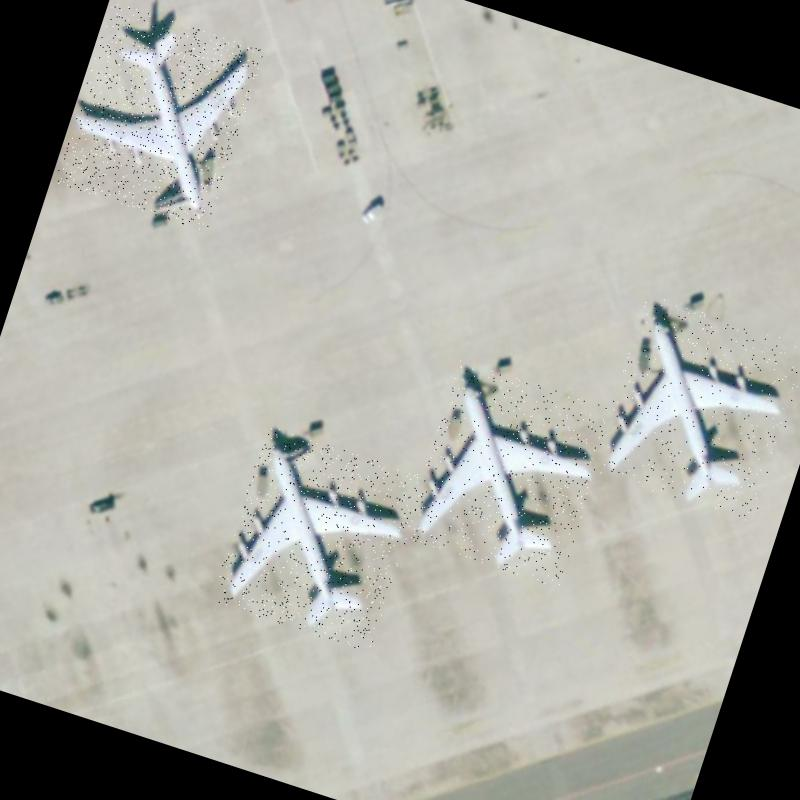A11: (210, 425, 427, 653), (402, 360, 616, 588), (54, 2, 265, 232), (590, 294, 800, 524)
